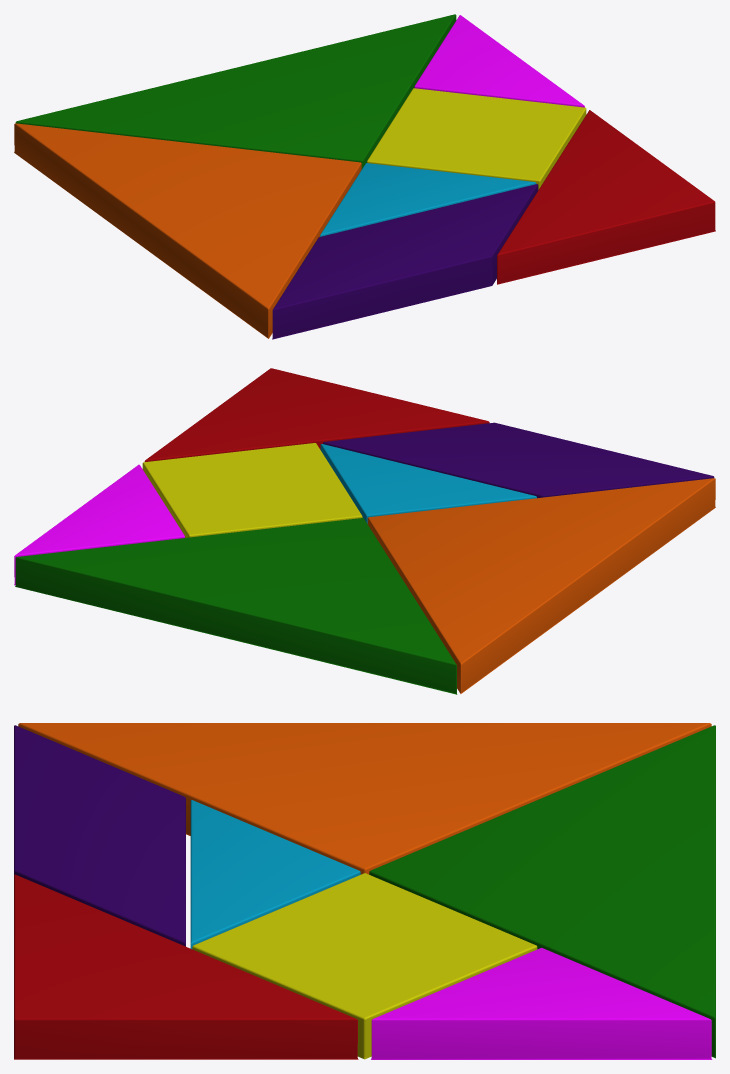
The model's file is Tangram_Colored.fbx.
The picture shows the model from 3 angles, top to bottom: view 1: azimuth 30°, elevation 25°; view 2: azimuth 150°, elevation 25°; view 3: azimuth 270°, elevation 25°; orthographic projection. The views are drawn at different scales.
Visible parts, largest first — view 1: Curve.003, Curve.001, Curve.007, Curve.006, Curve.004, Curve.005, Curve.002; view 2: Curve.001, Curve.003, Curve.007, Curve.004, Curve.006, Curve.005, Curve.002; view 3: Curve.003, Curve.001, Curve.006, Curve.004, Curve.002, Curve.007, Curve.005.
Part boxes in pixels (left/top/right/bottom): Curve.003: left=14, top=123, right=361, bottom=338; Curve.001: left=15, top=14, right=456, bottom=169; Curve.007: left=272, top=184, right=538, bottom=339; Curve.006: left=497, top=110, right=715, bottom=284; Curve.004: left=367, top=88, right=586, bottom=189; Curve.005: left=320, top=163, right=536, bottom=236; Curve.002: left=414, top=15, right=584, bottom=107; Curve.001: left=15, top=518, right=457, bottom=694; Curve.003: left=367, top=478, right=715, bottom=693; Curve.007: left=323, top=422, right=714, bottom=498; Curve.004: left=142, top=443, right=362, bottom=537; Curve.006: left=144, top=368, right=489, bottom=461; Curve.005: left=320, top=444, right=536, bottom=523; Curve.002: left=14, top=464, right=184, bottom=585; Curve.003: left=18, top=723, right=711, bottom=874; Curve.001: left=369, top=725, right=715, bottom=1058; Curve.006: left=14, top=874, right=358, bottom=1059; Curve.004: left=192, top=873, right=537, bottom=1059; Curve.002: left=371, top=948, right=712, bottom=1059; Curve.007: left=14, top=725, right=185, bottom=946; Curve.005: left=190, top=800, right=360, bottom=948.
Size of the model in its own units: 22.1 by 1.42 by 22.1.
